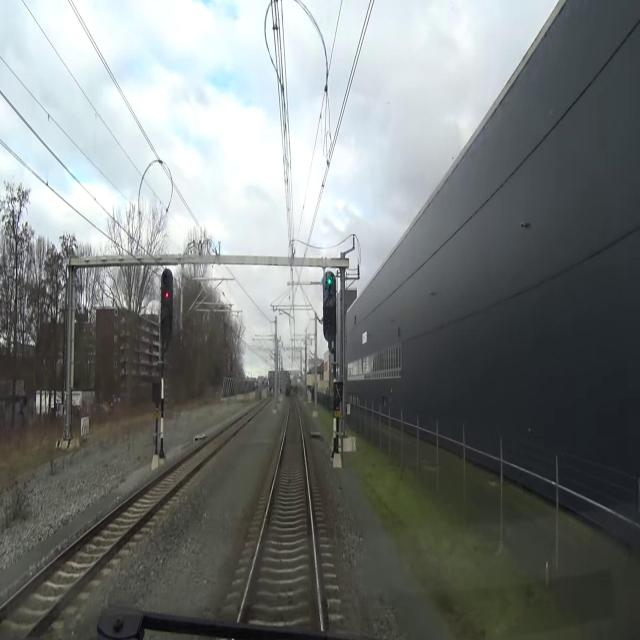rail-track: (0, 423, 239, 639), (242, 398, 319, 629)
